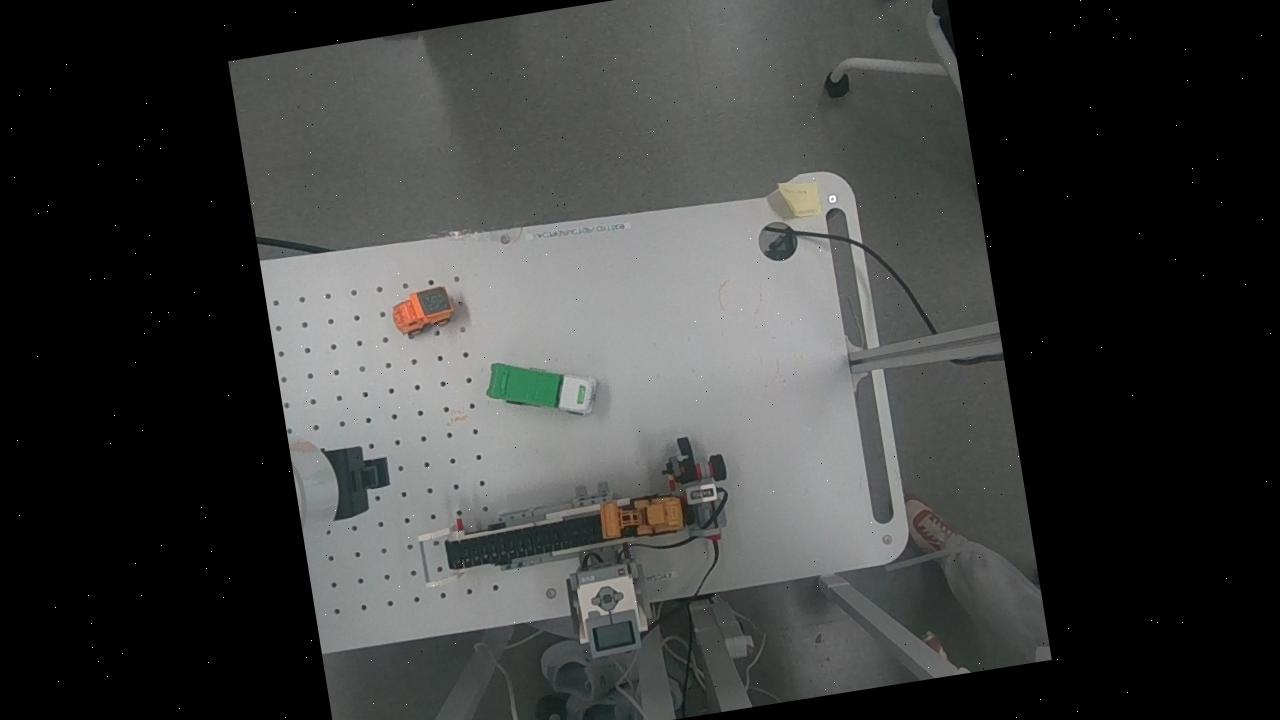green_car: (476, 339, 604, 432)
orange_car: (381, 280, 462, 339)
yellow_car: (598, 486, 686, 544)
